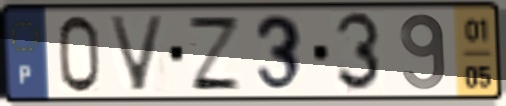0: (55, 13, 103, 95)
3: (330, 9, 389, 96), (252, 10, 309, 95)
9: (397, 12, 449, 94)
V: (105, 13, 170, 94)
Z: (184, 14, 245, 93)
